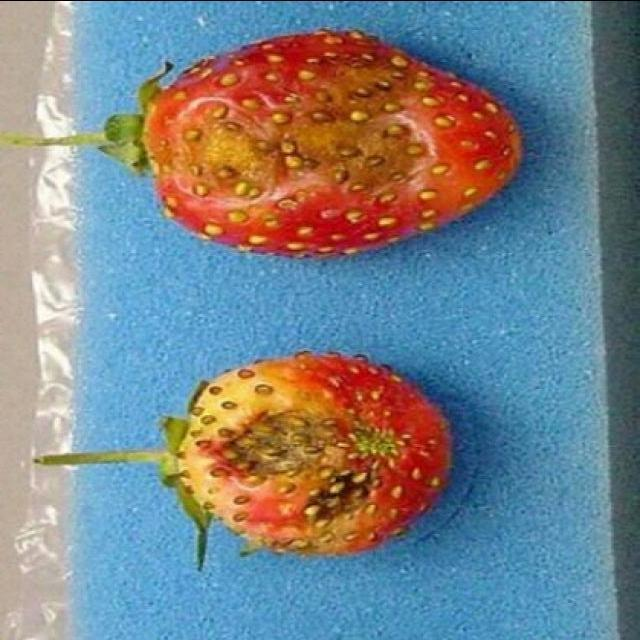Anthracnose Fruit Rot: (144, 27, 525, 259), (164, 350, 456, 570)
